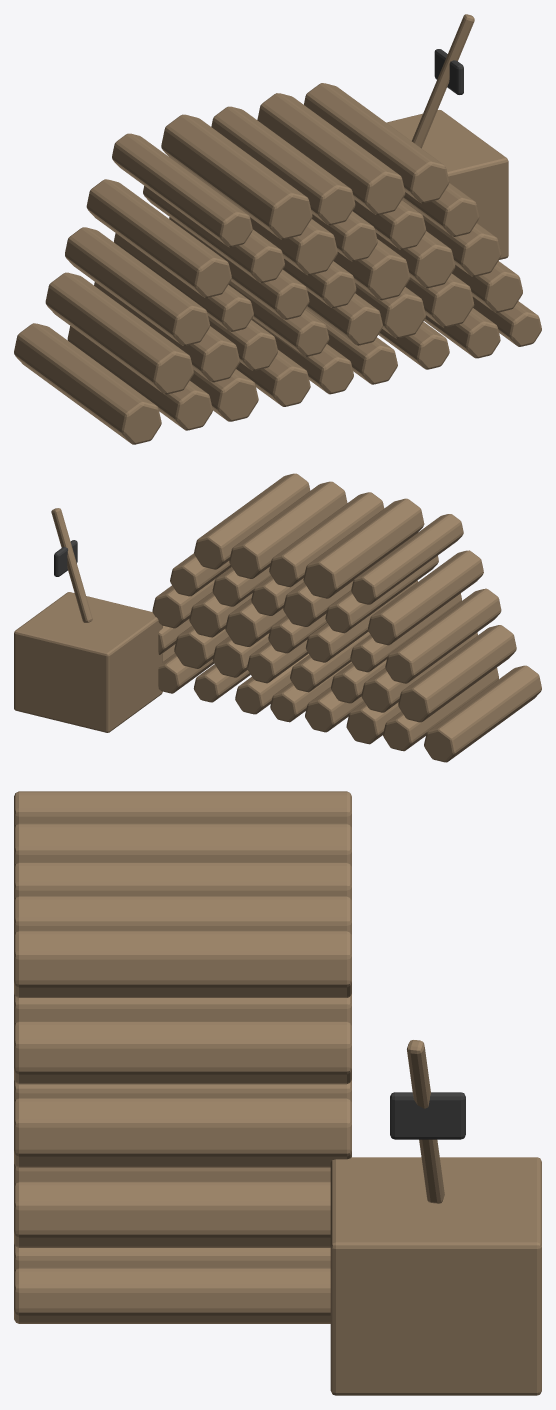
File: WoodPile.fbx
The picture shows the model from 3 angles, top to bottom: view 1: azimuth 30°, elevation 25°; view 2: azimuth 150°, elevation 25°; view 3: azimuth 270°, elevation 25°; orthographic projection. The views are drawn at different scales.
Parts seen in each view (by area): view 1: WoodPile; view 2: WoodPile; view 3: WoodPile.
Part boxes in pixels (x1,y1,x2,y2): WoodPile: [14, 14, 541, 444]; WoodPile: [14, 473, 541, 762]; WoodPile: [14, 791, 541, 1395].
Size of the model in its own units: 2.05 by 0.903 by 1.25.
